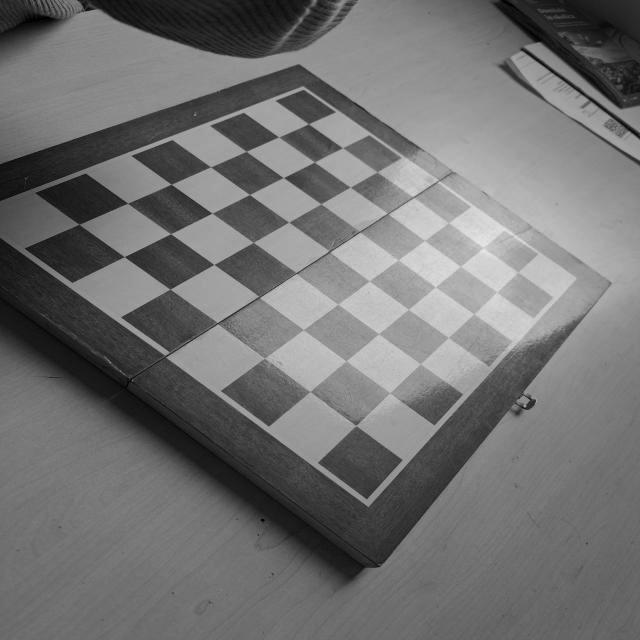chess-table-corners: (348, 485, 382, 511), (557, 268, 587, 290), (288, 81, 319, 102)
